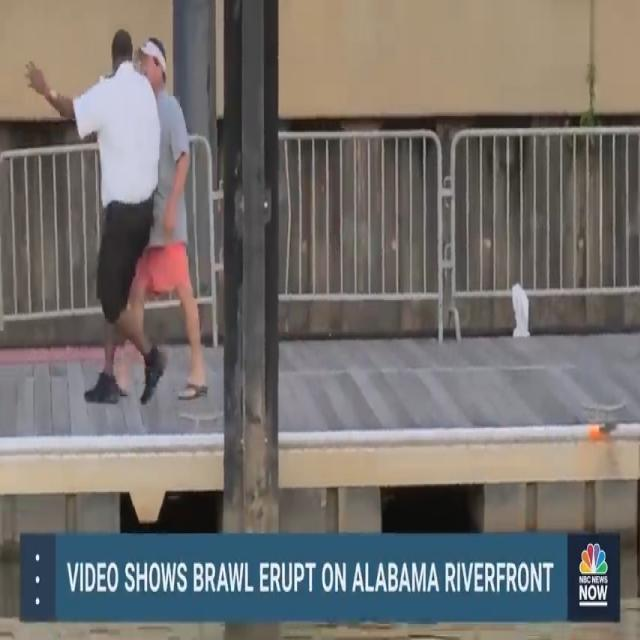non-fight: (18, 22, 230, 411)
